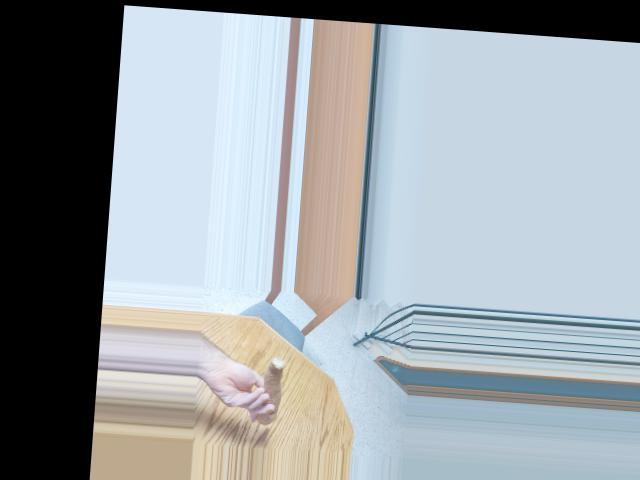sweet_potato: (252, 354, 287, 425)
